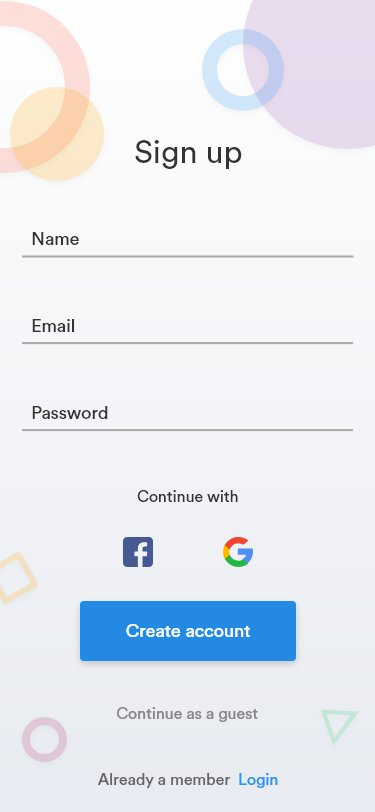BackgroundImage: (1, 1, 375, 812)
EditText: (22, 318, 354, 345), (23, 232, 354, 259), (22, 406, 354, 432)
Icon: (222, 536, 254, 568), (123, 537, 154, 568)
Text: (135, 140, 243, 170), (98, 772, 279, 789), (117, 706, 259, 723), (137, 489, 240, 504), (33, 406, 108, 420), (33, 232, 80, 246), (33, 319, 75, 334)
TextButton: (80, 600, 297, 662)
